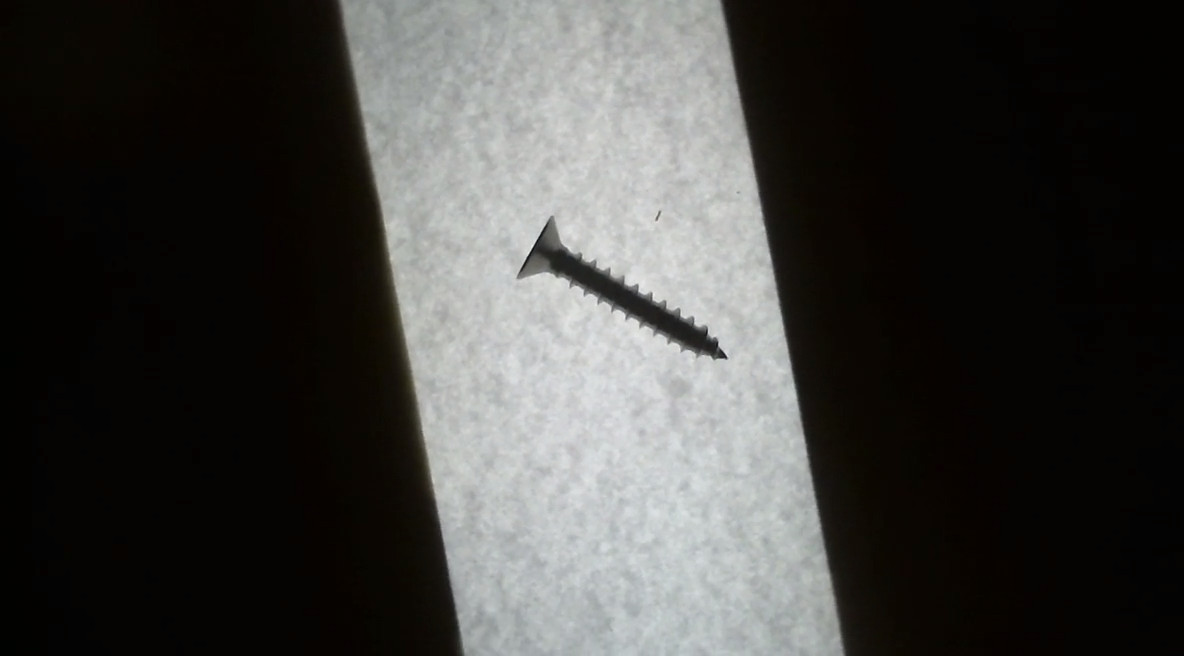S001: (507, 207, 745, 375)
